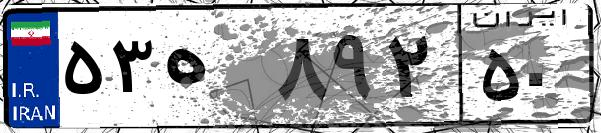0: (525, 38, 570, 115)
2: (385, 28, 445, 110)
3: (110, 28, 158, 98)
5: (57, 26, 110, 100), (475, 38, 525, 113)
8: (270, 28, 330, 110)
9: (330, 28, 385, 110)
ه: (158, 20, 270, 120)
